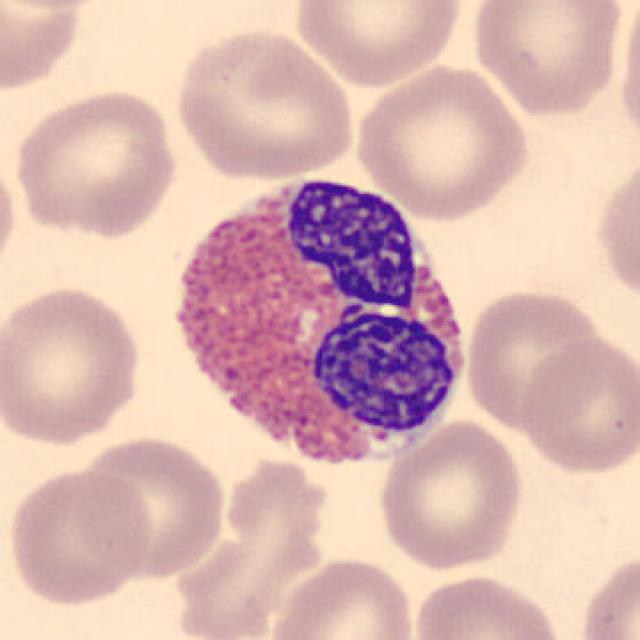Eosinophil: (153, 154, 482, 490)
RBC: (167, 25, 361, 182), (351, 62, 534, 224), (176, 458, 331, 640), (9, 84, 183, 240), (0, 280, 148, 450), (373, 416, 528, 573), (71, 428, 229, 582), (3, 464, 156, 610), (462, 286, 612, 434), (466, 0, 628, 118), (518, 333, 638, 478), (290, 0, 466, 88), (265, 552, 419, 640), (407, 571, 565, 640), (0, 0, 94, 99), (592, 150, 638, 314), (576, 546, 640, 640), (613, 0, 639, 153), (0, 144, 21, 287), (0, 0, 124, 14)
